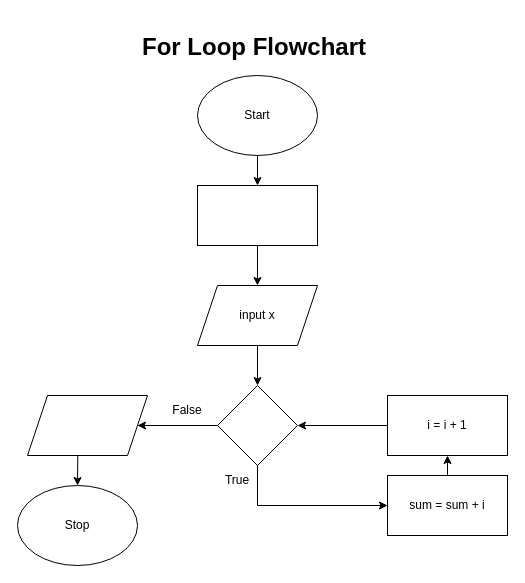
Image size: 525x583. Some labels were removed from this diagram. Here are the shapes that lost their labels. From the top down, the centre of each, then its label:
the point at 257,215: i = 0 sum = 0
the point at 87,425: print sum
the point at 257,425: i < x ?
